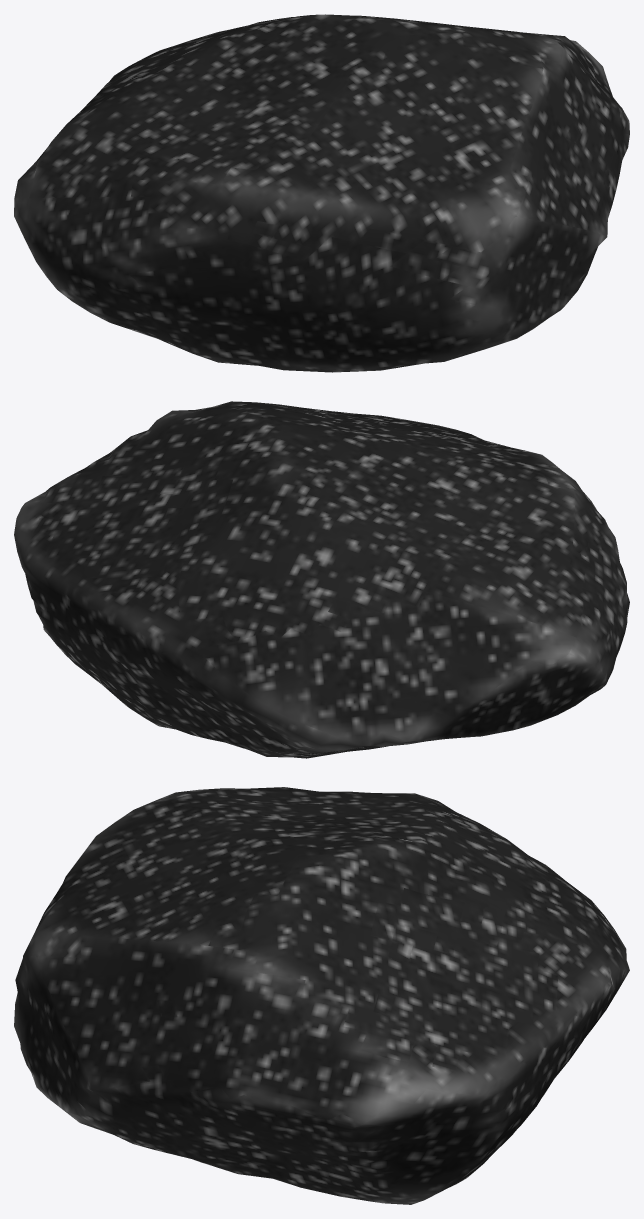
Rendered from moon_rock-0.glb.
3 renders of one model, top to bottom at view 1: azimuth 30°, elevation 25°; view 2: azimuth 150°, elevation 25°; view 3: azimuth 270°, elevation 25°, orthographic. The views are drawn at different scales.
Visible parts, largest first — view 1: moon_rock; view 2: moon_rock; view 3: moon_rock.
Boxes of the visible parts, <box> form: moon_rock: <box>14,14,629,372</box>; moon_rock: <box>14,401,629,758</box>; moon_rock: <box>14,787,629,1204</box>.
Bounding box in the file's own units: 0.0718 × 0.0335 × 0.0612.
Materials: 1 (1 with a texture image).
